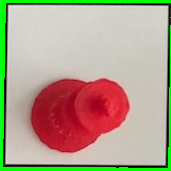Red King: (22, 75, 135, 157)
